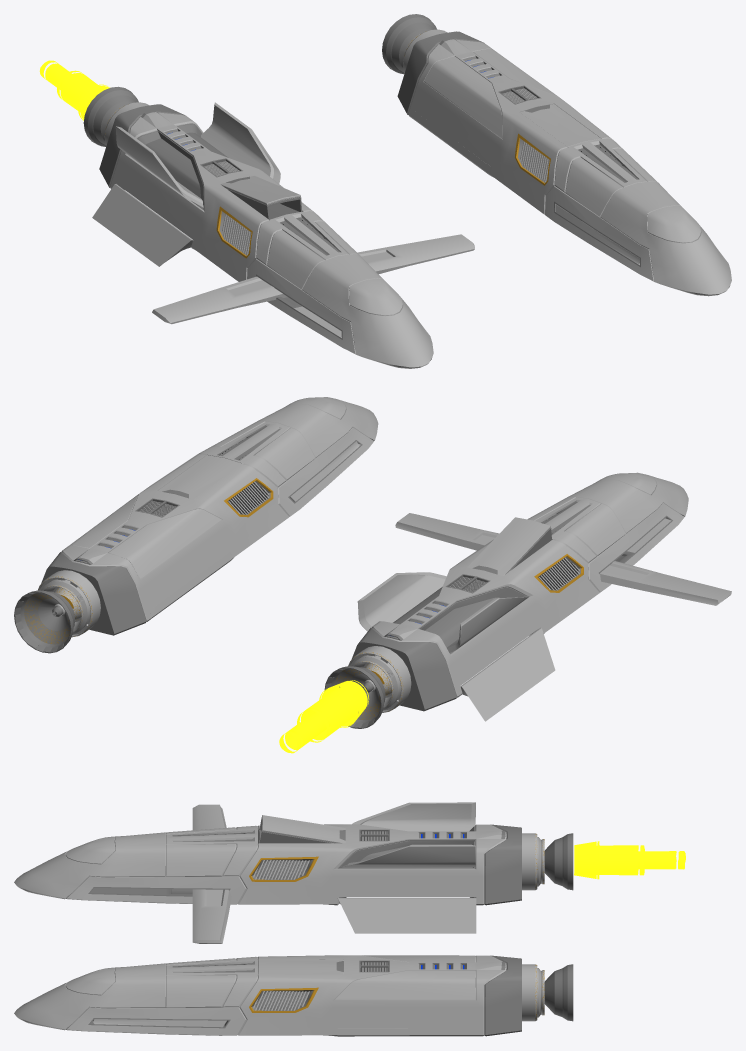
The model's file is Hasta Missile.fbx.
3 renders of one model, top to bottom at view 1: azimuth 30°, elevation 25°; view 2: azimuth 150°, elevation 25°; view 3: azimuth 270°, elevation 25°, orthographic. The views are drawn at different scales.
Visible parts, largest first — view 1: Hasta_Missile_Open, Hasta_Missile_Close; view 2: Hasta_Missile_Open, Hasta_Missile_Close; view 3: Hasta_Missile_Open, Hasta_Missile_Close.
Part boxes in pixels (box(x1,y1,x2,y2)): Hasta_Missile_Open: box(39, 60, 474, 368); Hasta_Missile_Close: box(382, 14, 731, 296); Hasta_Missile_Open: box(279, 472, 731, 753); Hasta_Missile_Close: box(14, 397, 378, 653); Hasta_Missile_Open: box(14, 802, 685, 943); Hasta_Missile_Close: box(14, 955, 573, 1036).
Size of the model in its own units: 1072 by 181 by 1466.
